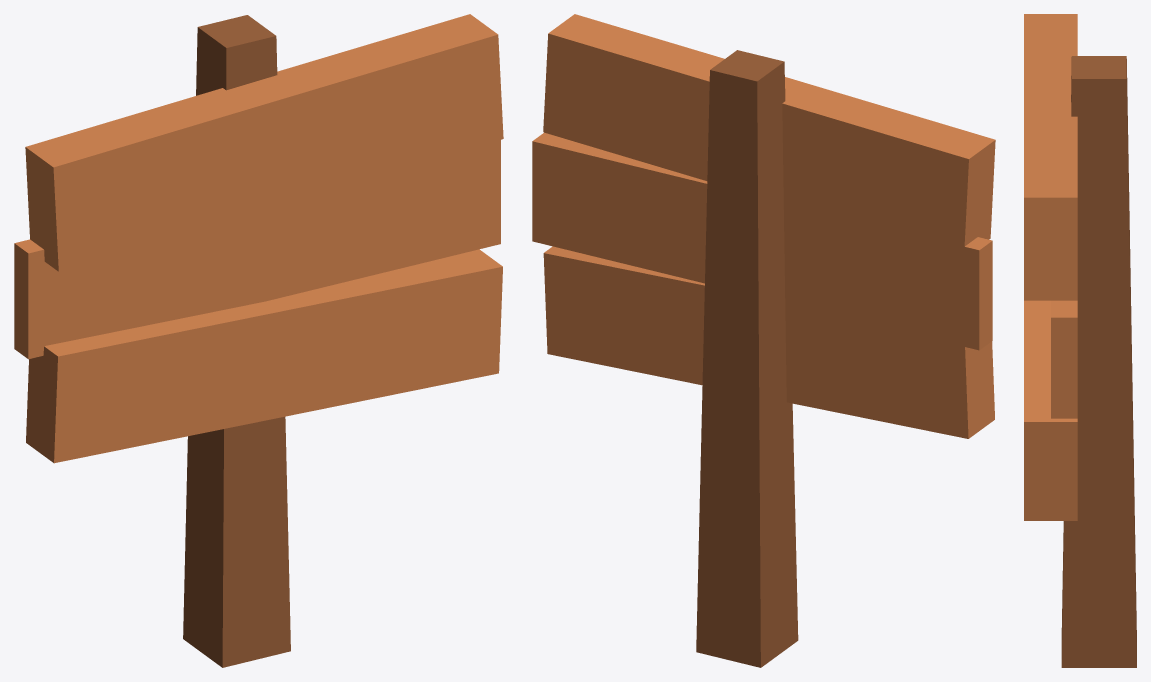
File: sign.dae
3 renders of one model, left to right at view 1: azimuth 30°, elevation 25°; view 2: azimuth 150°, elevation 25°; view 3: azimuth 270°, elevation 25°, orthographic. The views are drawn at different scales.
Visible parts, largest first — view 1: sign; view 2: sign; view 3: sign.
Boxes of the visible parts, bbox=[...] form: sign: bbox=[14, 14, 503, 667]; sign: bbox=[532, 14, 995, 667]; sign: bbox=[1024, 14, 1136, 667].
Size of the model in its own units: 0.4835 by 0.6 by 0.105.
